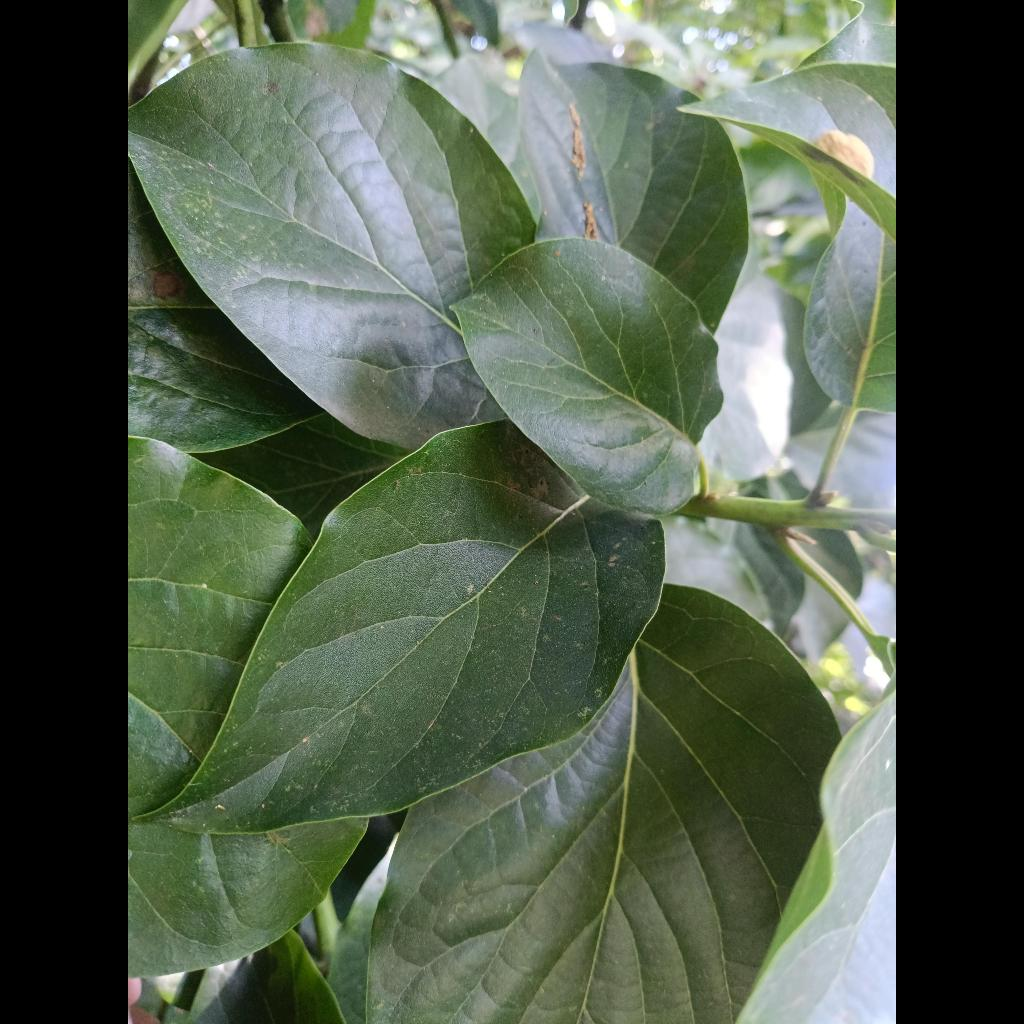hoja_sana: (152, 421, 665, 833), (452, 239, 722, 514)
